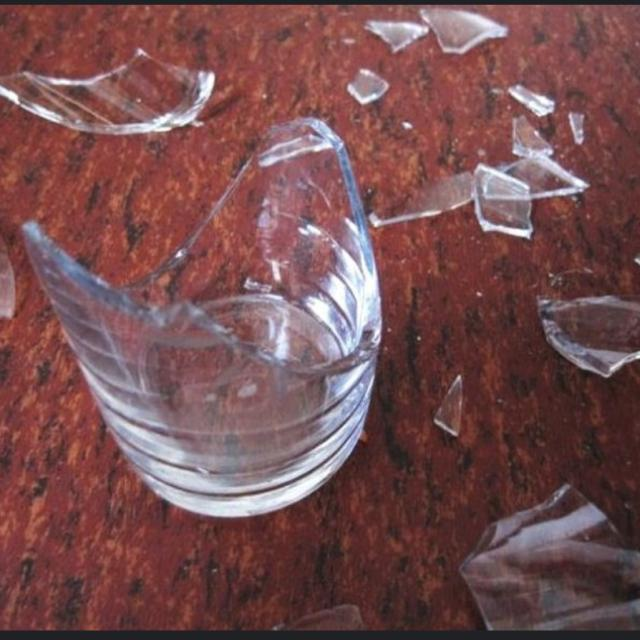PecahanKaca: (22, 114, 385, 518)
